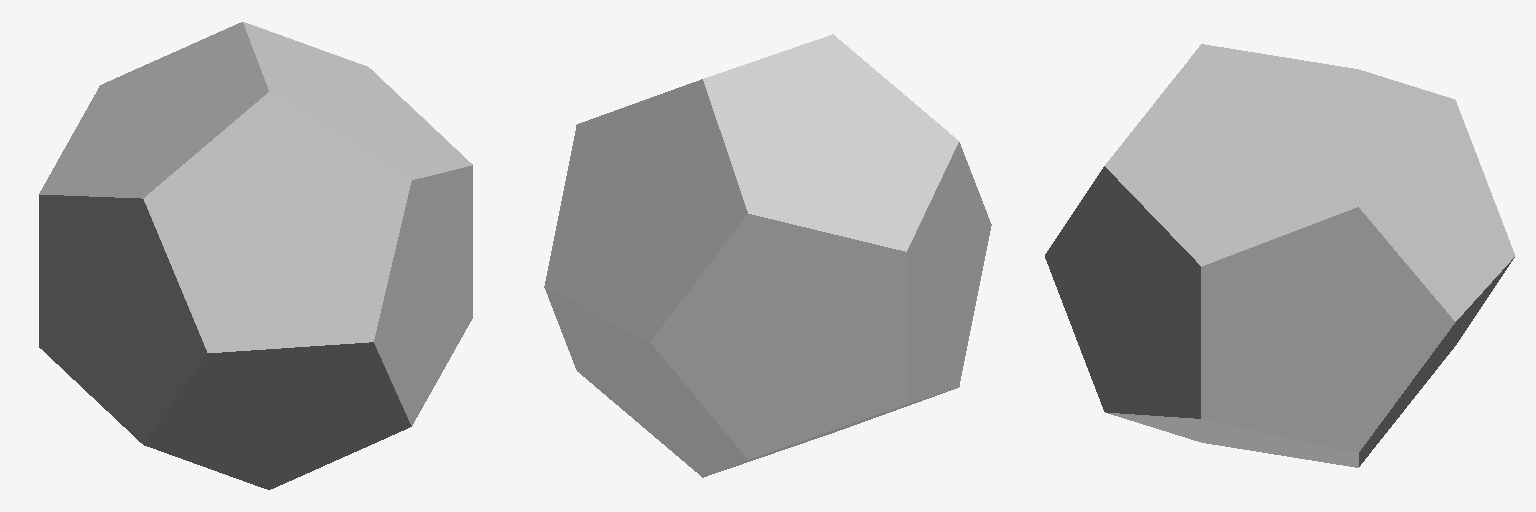
File: Dodecahedron.obj
3 views of the same model, side by side, from view 1: azimuth 30°, elevation 25°; view 2: azimuth 150°, elevation 25°; view 3: azimuth 270°, elevation 25° (orthographic).
Parts seen in each view (by area): view 1: Dodecahedron; view 2: Dodecahedron; view 3: Dodecahedron.
Boxes of the visible parts, x1,y1,x2,y2 form: Dodecahedron: [39, 22, 472, 489]; Dodecahedron: [544, 34, 991, 477]; Dodecahedron: [1045, 44, 1514, 467].
Size of the model in its own units: 1.17 by 1.26 by 1.35.